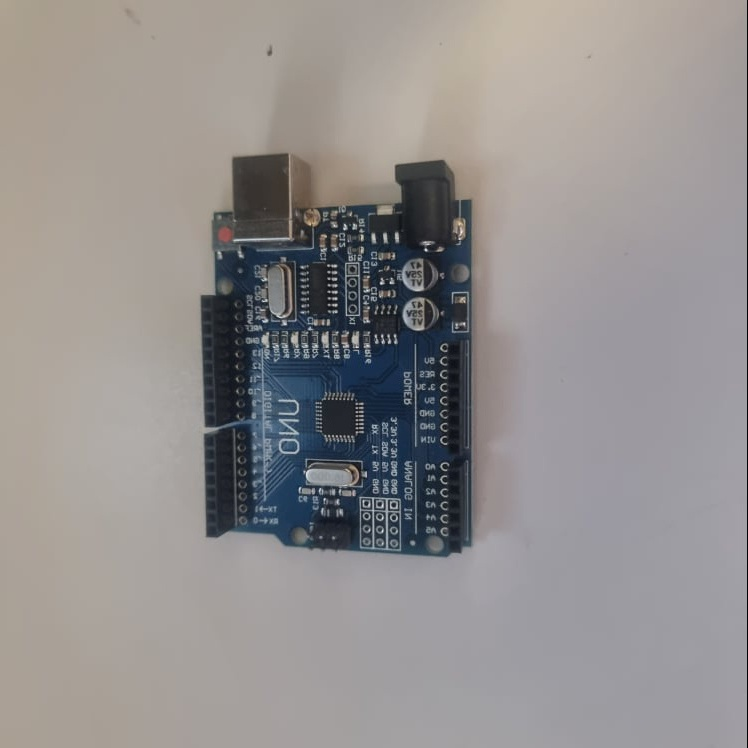UNO R3: (200, 153, 477, 558)
